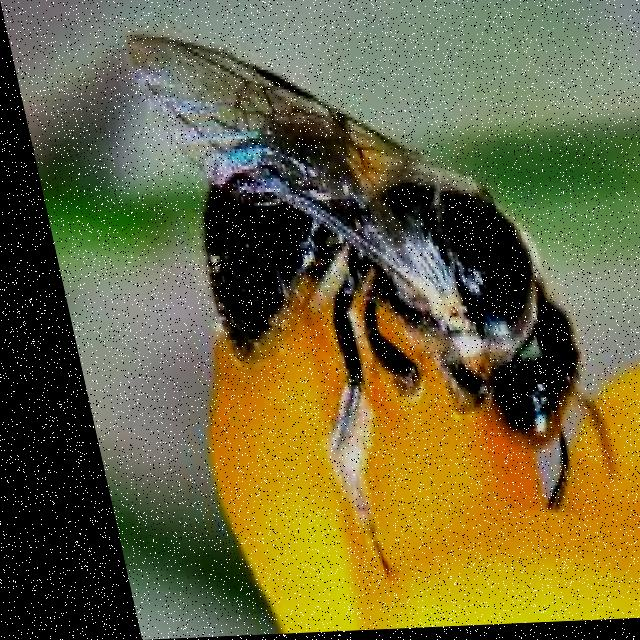Braunsapis: (101, 0, 637, 581)
